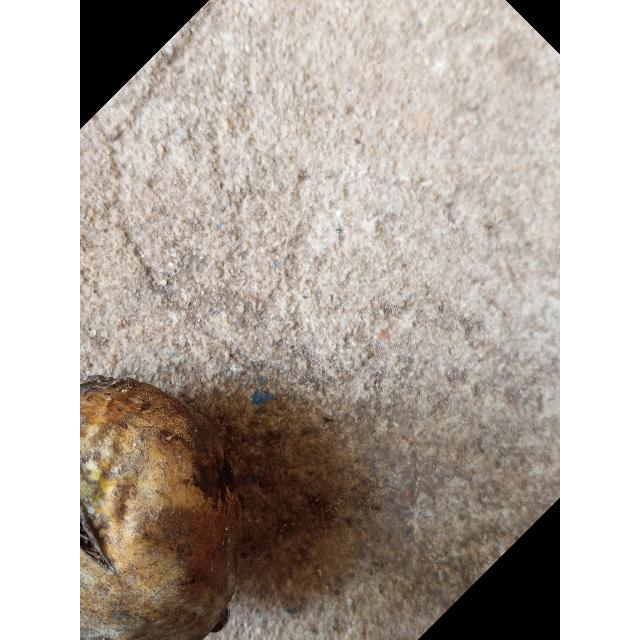damaged: (80, 376, 243, 640)
